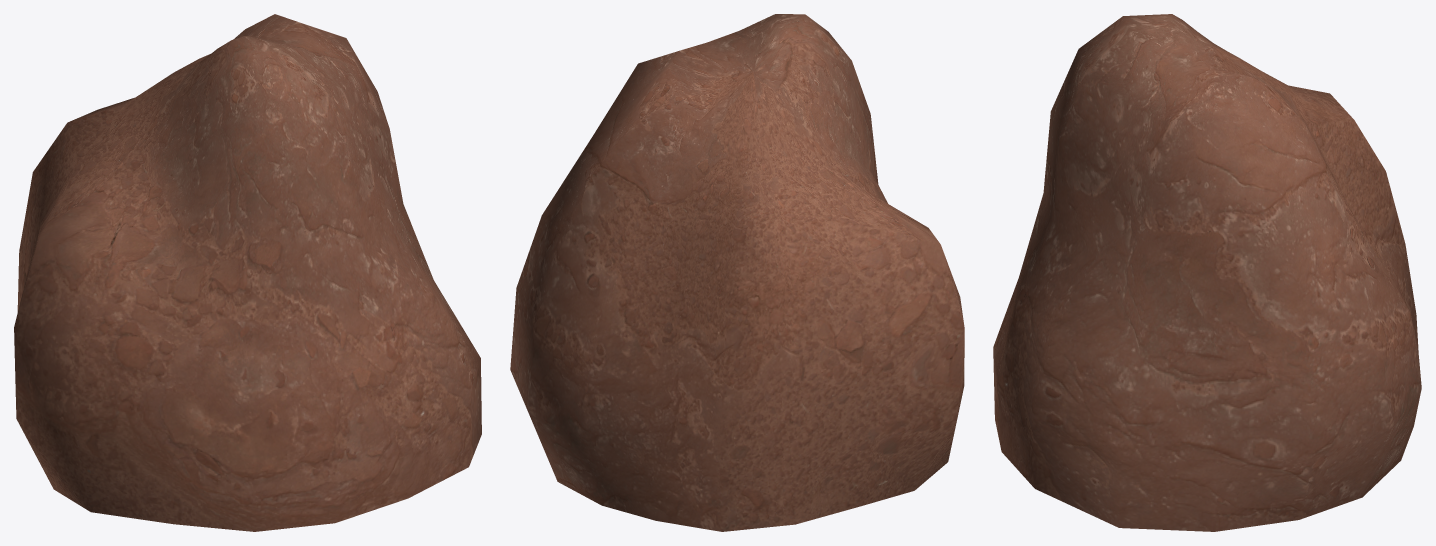
File: Rock_02.glb
3 views of the same model, side by side, from view 1: azimuth 30°, elevation 25°; view 2: azimuth 150°, elevation 25°; view 3: azimuth 270°, elevation 25° (orthographic). The views are drawn at different scales.
Visible parts, largest first — view 1: Rock_02; view 2: Rock_02; view 3: Rock_02.
Boxes of the visible parts, x1=… form: Rock_02: x1=14, y1=14, x2=481, y2=531; Rock_02: x1=510, y1=14, x2=964, y2=531; Rock_02: x1=993, y1=14, x2=1421, y2=531.
Size of the model in its own units: 2.87 by 2.82 by 2.62.
Materials: 1 (1 with a texture image).
